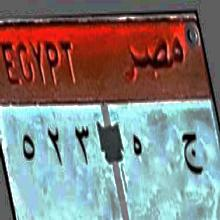2: (48, 122, 65, 184)
3: (69, 123, 94, 174)
5: (20, 126, 41, 179)
haa: (129, 126, 147, 171)
jeem: (175, 124, 205, 193)
